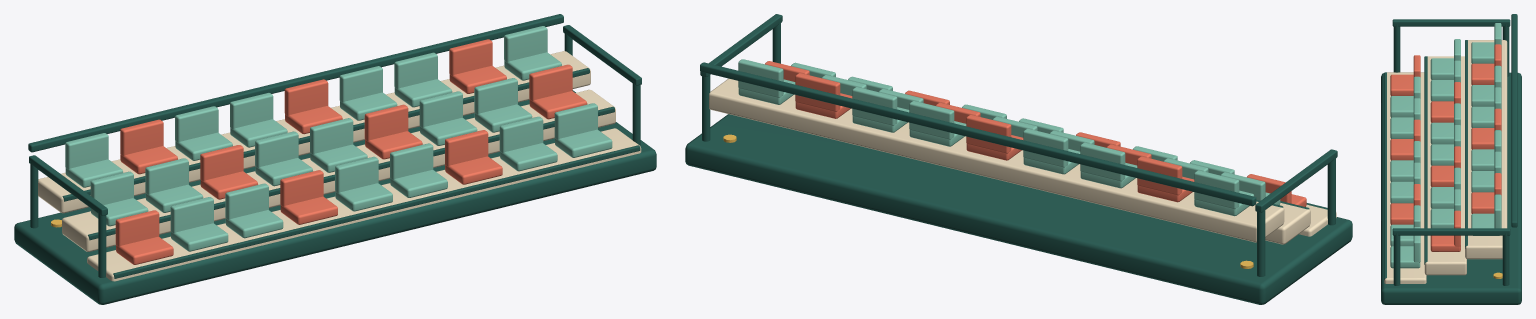
Rendered from athlete_bleachers.glb.
3 renders of one model, left to right at view 1: azimuth 30°, elevation 25°; view 2: azimuth 150°, elevation 25°; view 3: azimuth 270°, elevation 25°, orthographic. The views are drawn at different scales.
Visible parts, largest first — view 1: athlete_bleachers__mint, athlete_bleachers__ink, athlete_bleachers__coral, athlete_bleachers__cream; view 2: athlete_bleachers__ink, athlete_bleachers__cream, athlete_bleachers__mint, athlete_bleachers__coral; view 3: athlete_bleachers__ink, athlete_bleachers__mint, athlete_bleachers__cream, athlete_bleachers__coral.
Part boxes in pixels (bbox=[...]): athlete_bleachers__mint: bbox=[65, 26, 612, 251]; athlete_bleachers__ink: bbox=[14, 14, 656, 304]; athlete_bleachers__coral: bbox=[115, 39, 587, 264]; athlete_bleachers__cream: bbox=[38, 51, 641, 281]; athlete_bleachers__ink: bbox=[685, 14, 1352, 304]; athlete_bleachers__cream: bbox=[709, 78, 1336, 244]; athlete_bleachers__mint: bbox=[738, 59, 1280, 216]; athlete_bleachers__coral: bbox=[765, 61, 1306, 206]; athlete_bleachers__ink: bbox=[1381, 14, 1521, 304]; athlete_bleachers__mint: bbox=[1390, 23, 1501, 268]; athlete_bleachers__cream: bbox=[1384, 40, 1507, 283]; athlete_bleachers__coral: bbox=[1390, 44, 1501, 251].
Bounding box in the file's own units: 5.5 × 0.955 × 1.5.
